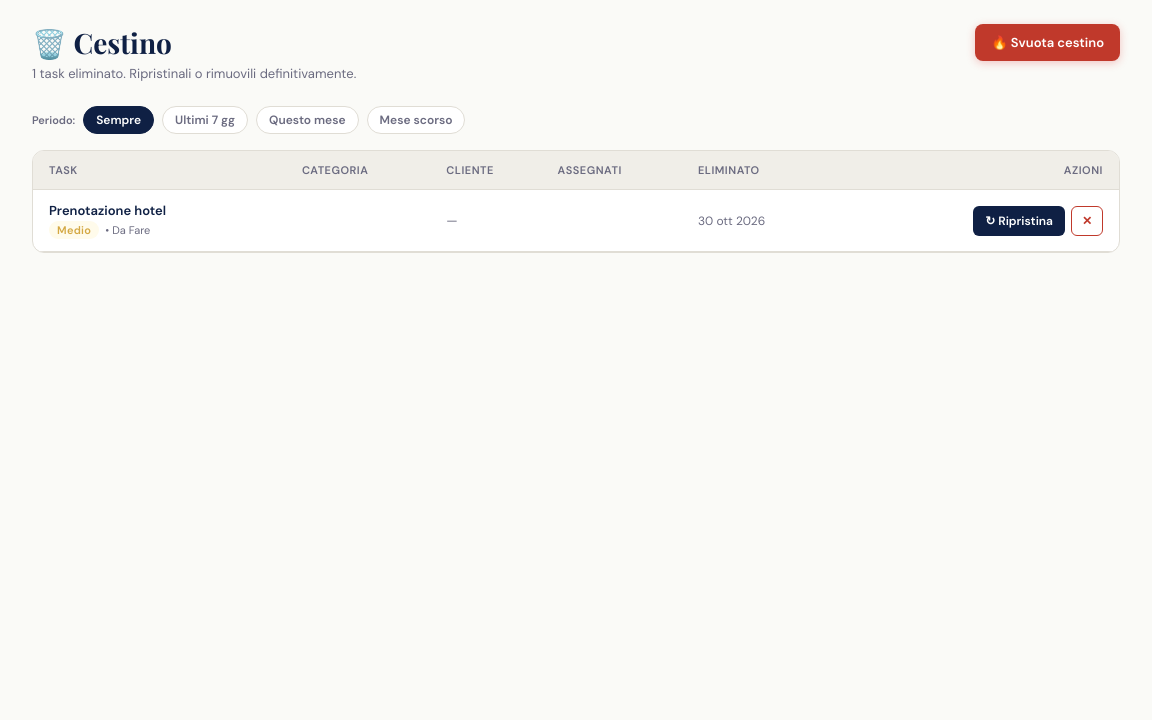
Test: Cestino — l'eliminazione definitiva passa dalla conferma dell'app › annulla → nessuna eliminazione
The width and height of the screenshot is (1152, 720).
Click the button titled "Elimina definitivamente". click: (1087, 220)
box: [1071,206,1103,236]
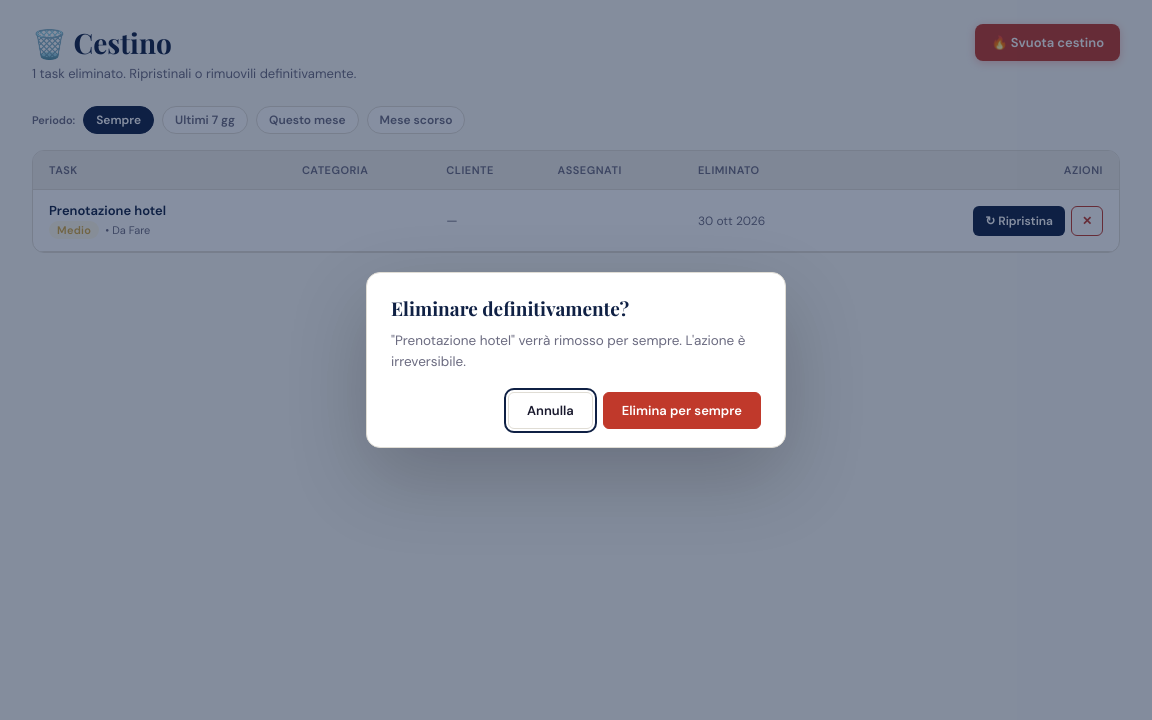
Click the button "Annulla". click: (550, 410)
box: [508,392,593,429]
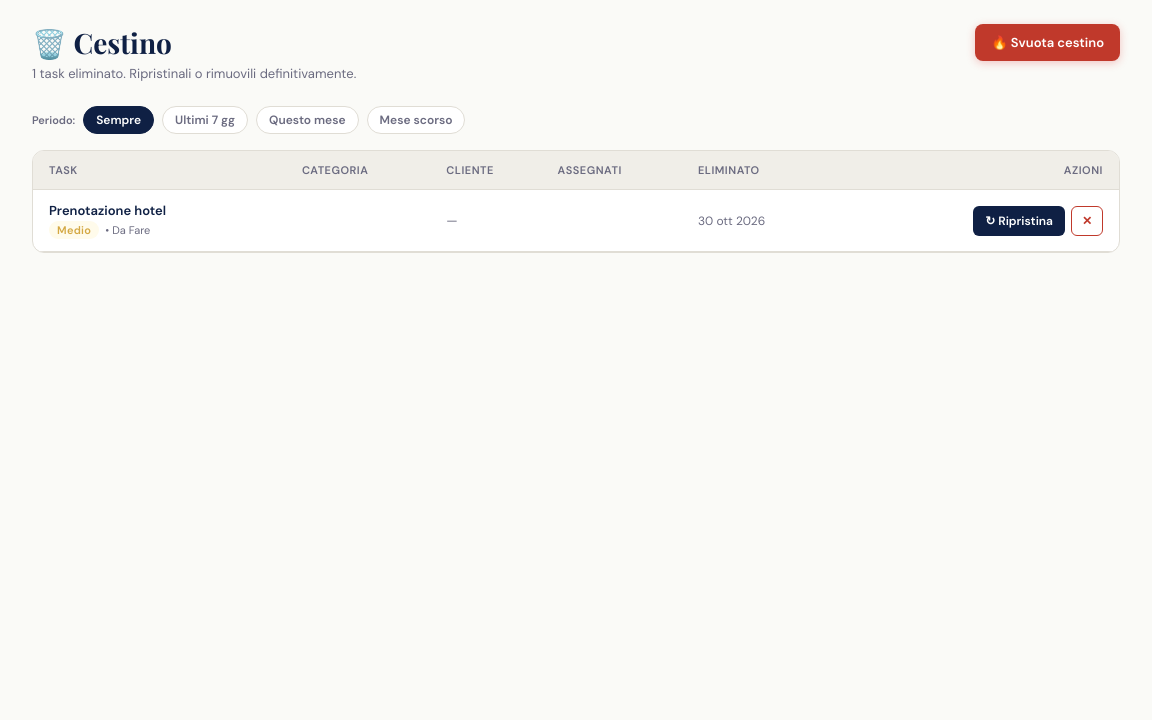
Expected: the dialog is gone
